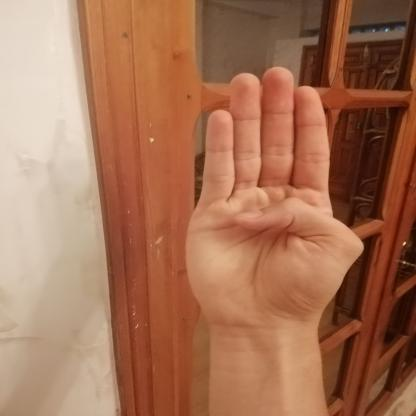KAAF: (167, 54, 379, 344)
